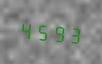five: (34, 18, 49, 43)
four: (18, 17, 33, 42)
nine: (50, 20, 65, 45)
three: (66, 21, 81, 46)
